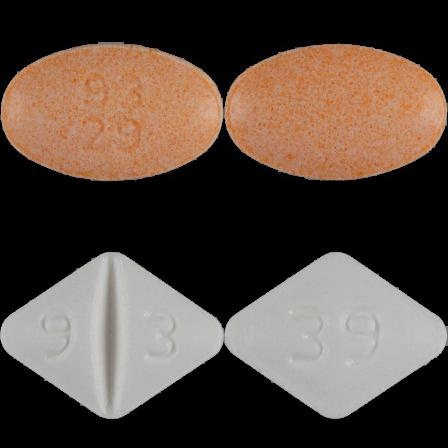0093-0029: (0, 0, 224, 224)
